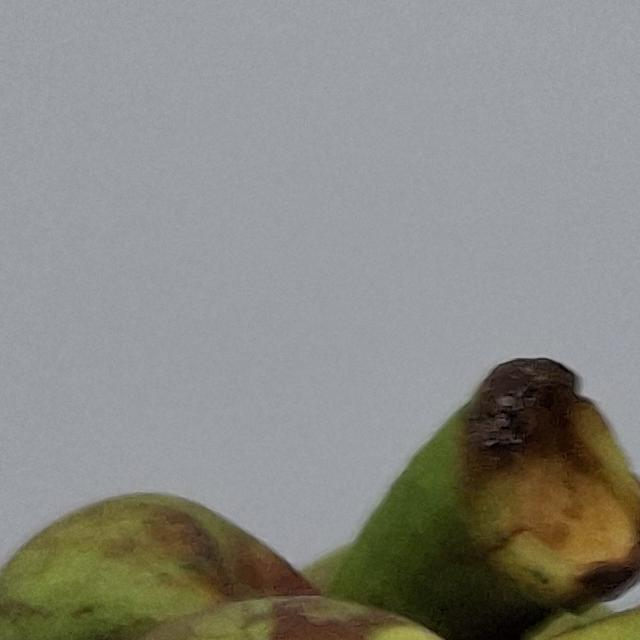mangosteen: (0, 315, 640, 640)
